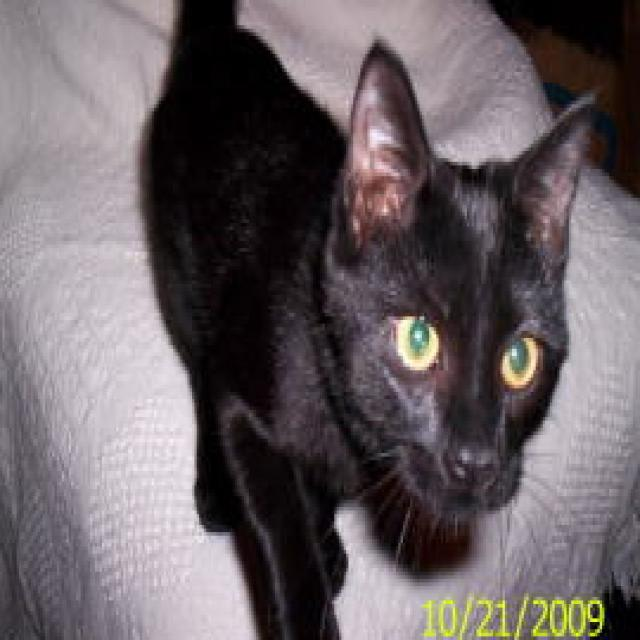Bombay: (133, 0, 597, 640)
